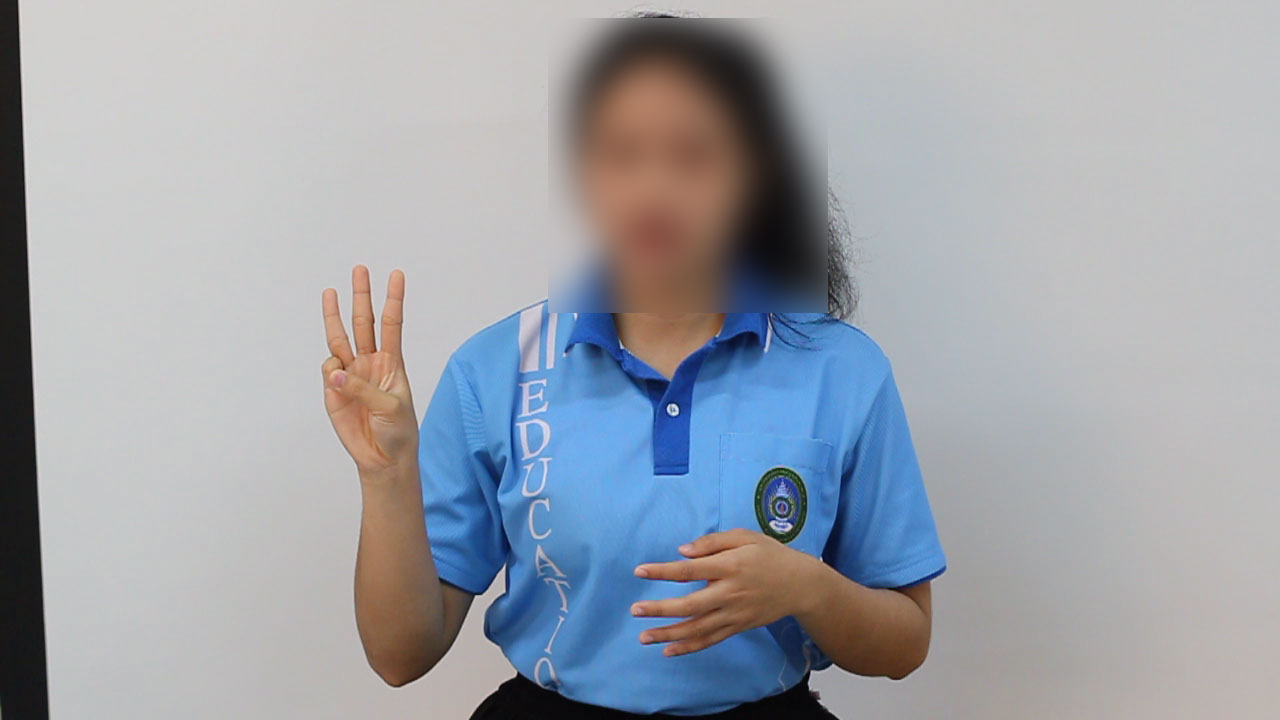wor: (313, 255, 428, 480)
